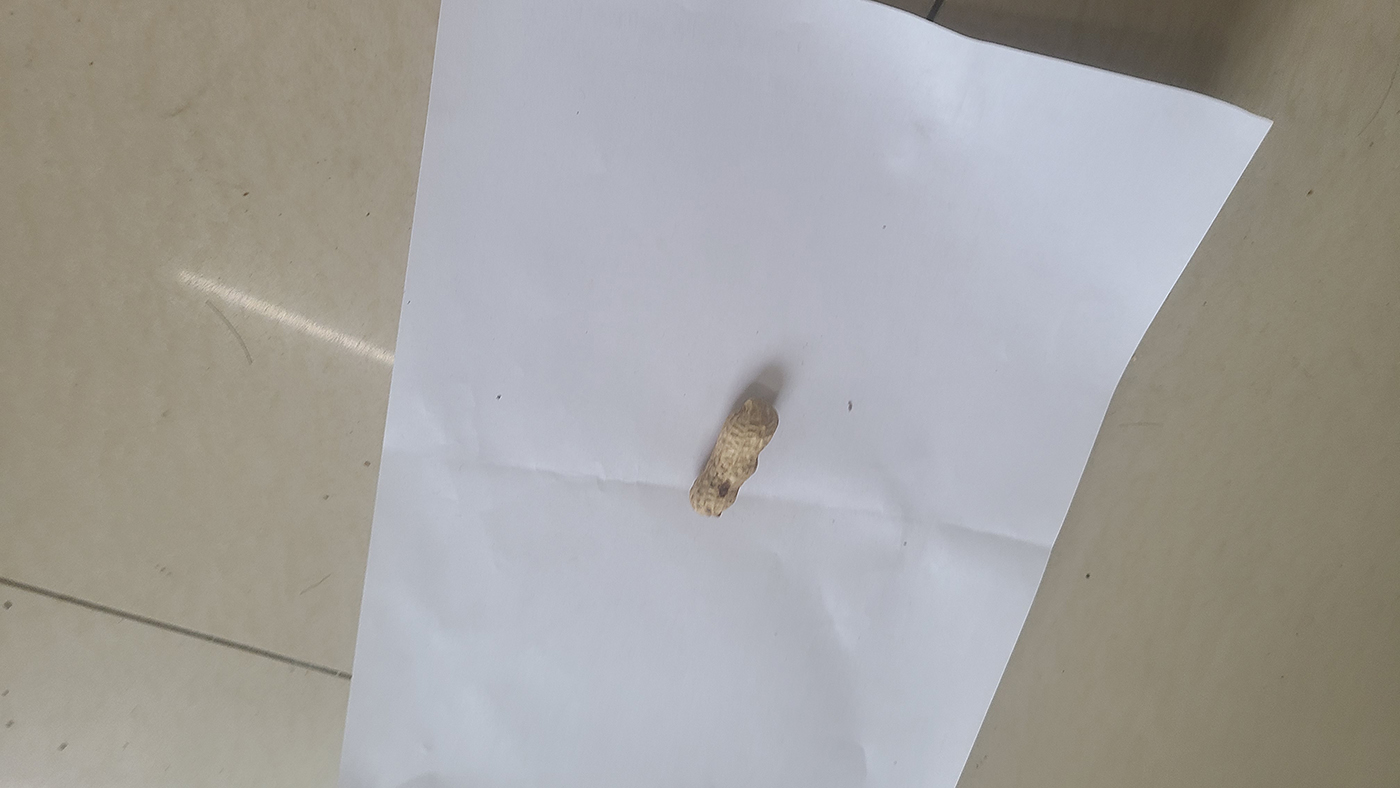h: (688, 398, 779, 518)
